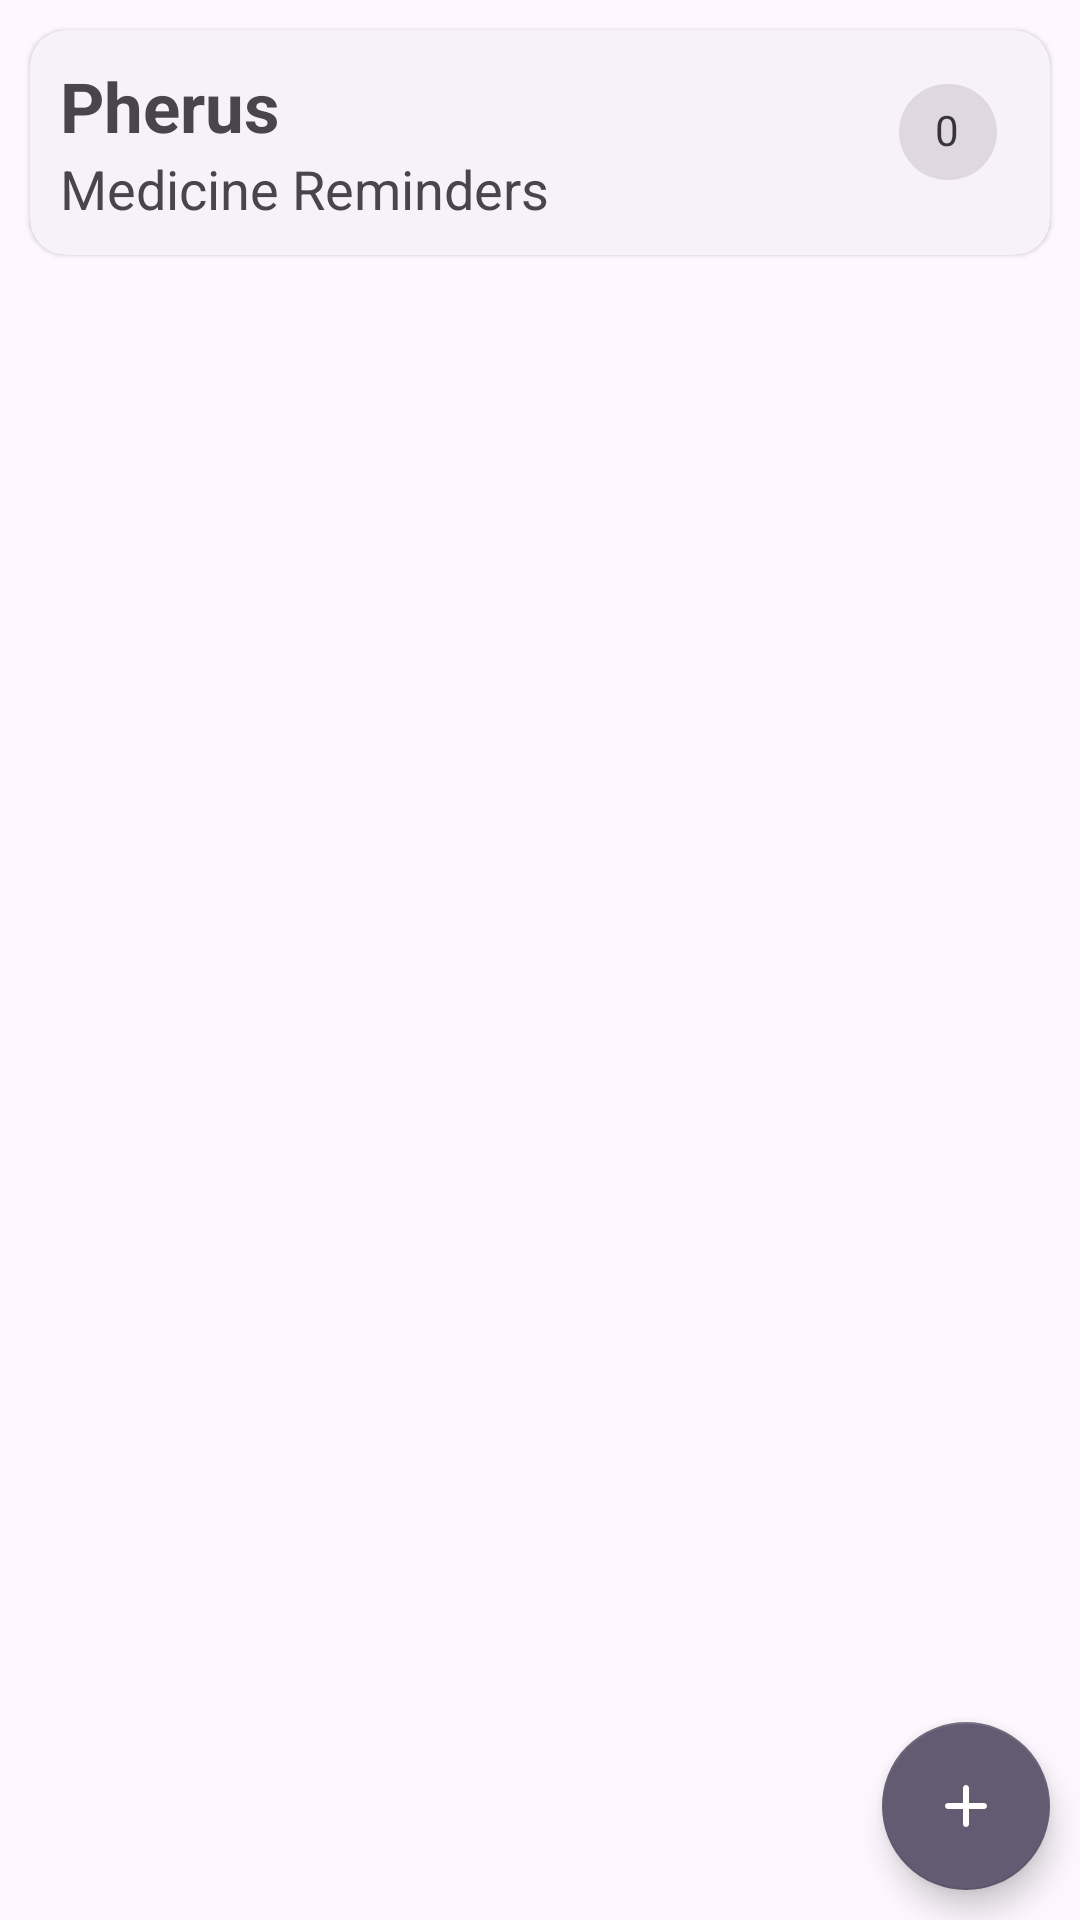

Icons on this 1080*1920 Android screen, each with the point to tap as (x=x, y=y):
add: (x=966, y=1806)
